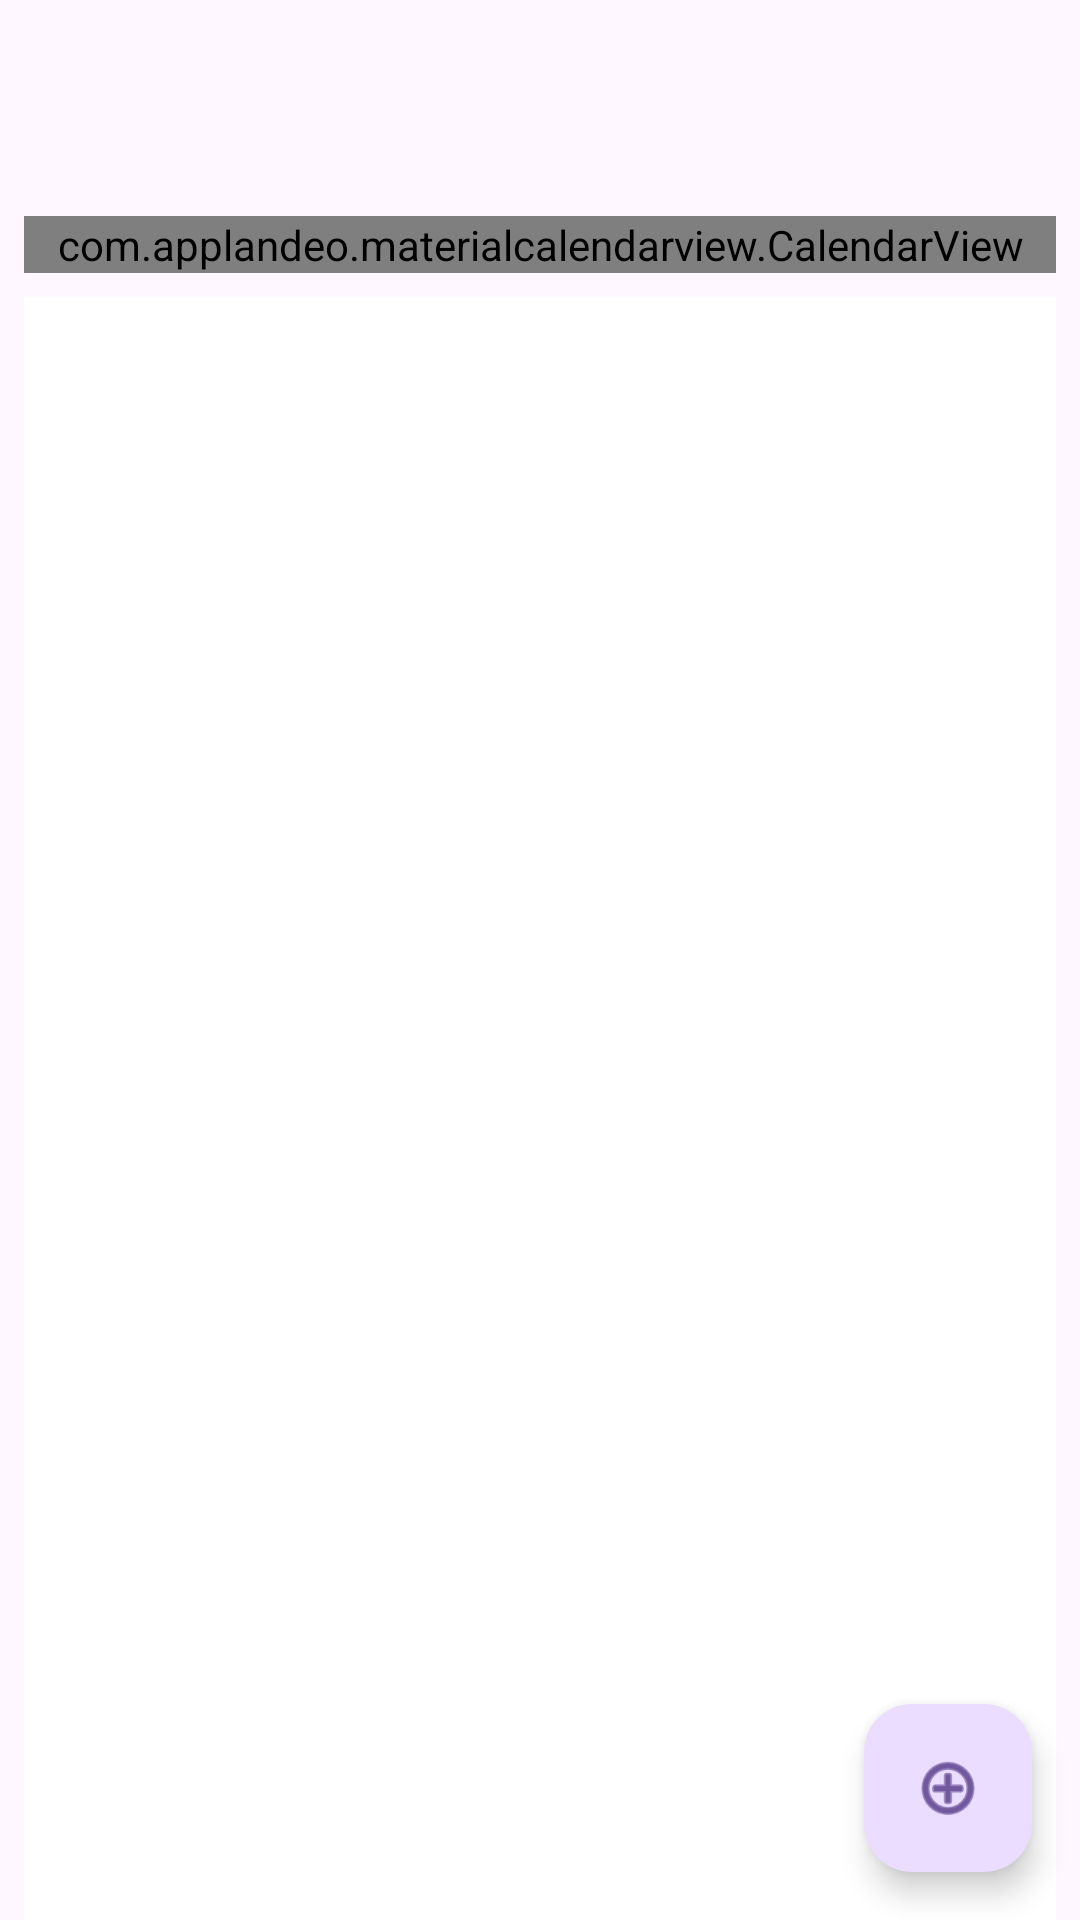

Where icons sit on this 1080w x 1920h app screen, as (x1, y1, x2, y2):
Añadir evento: (864, 1704, 1032, 1872)
